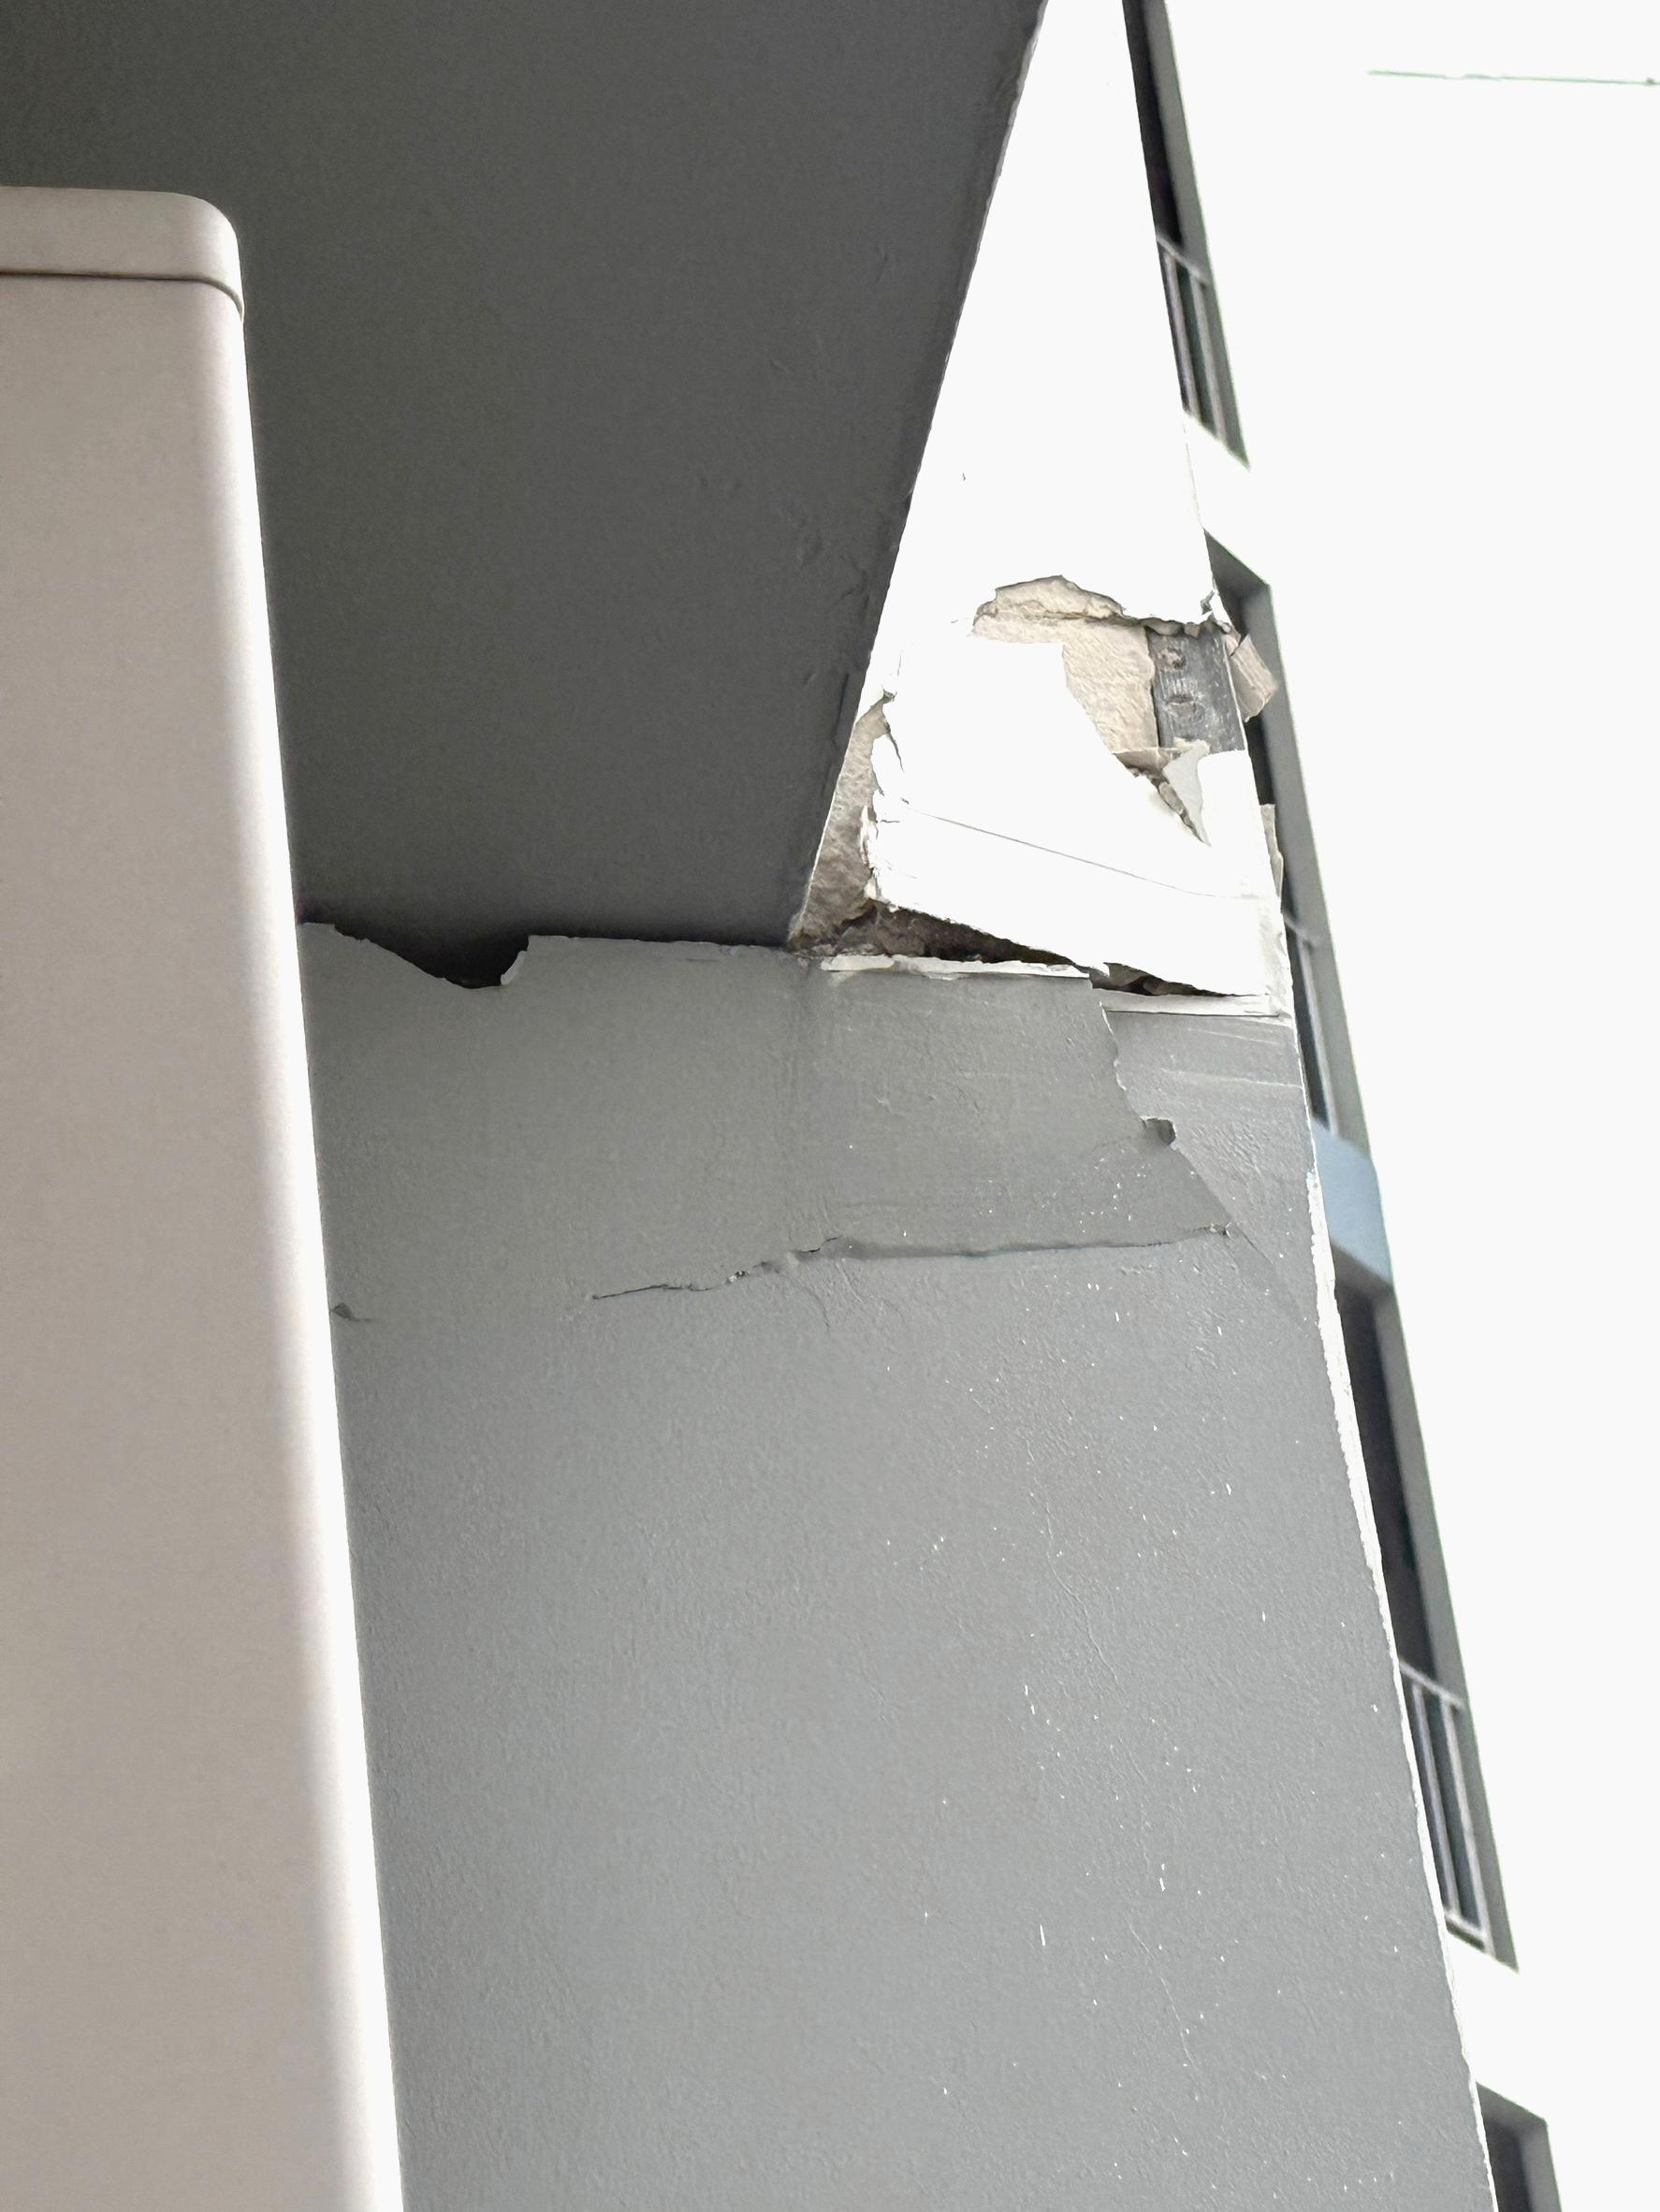High: (258, 553, 1374, 1339)
